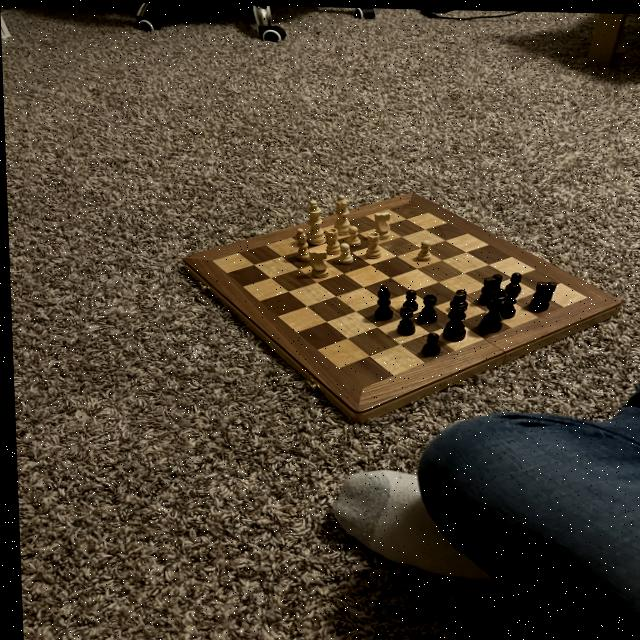bishop: (492, 280, 519, 318), (368, 281, 393, 321)
black-bishop: (437, 289, 468, 341)
black-king: (522, 276, 559, 311), (473, 269, 504, 302)
black-knight: (417, 330, 441, 358), (443, 285, 468, 310), (501, 268, 523, 292), (398, 285, 418, 311)
black-pawn: (472, 285, 508, 334)
black-queen: (391, 304, 418, 336), (414, 289, 439, 322)
black-rook: (290, 224, 310, 262)
white-bishop: (303, 196, 325, 246)
white-king: (303, 245, 329, 279), (367, 208, 393, 240)
white-knight: (411, 236, 432, 261), (331, 241, 353, 264), (342, 222, 360, 246)
white-pawn: (330, 190, 351, 236)
white-queen: (362, 227, 382, 261), (321, 224, 340, 253)
